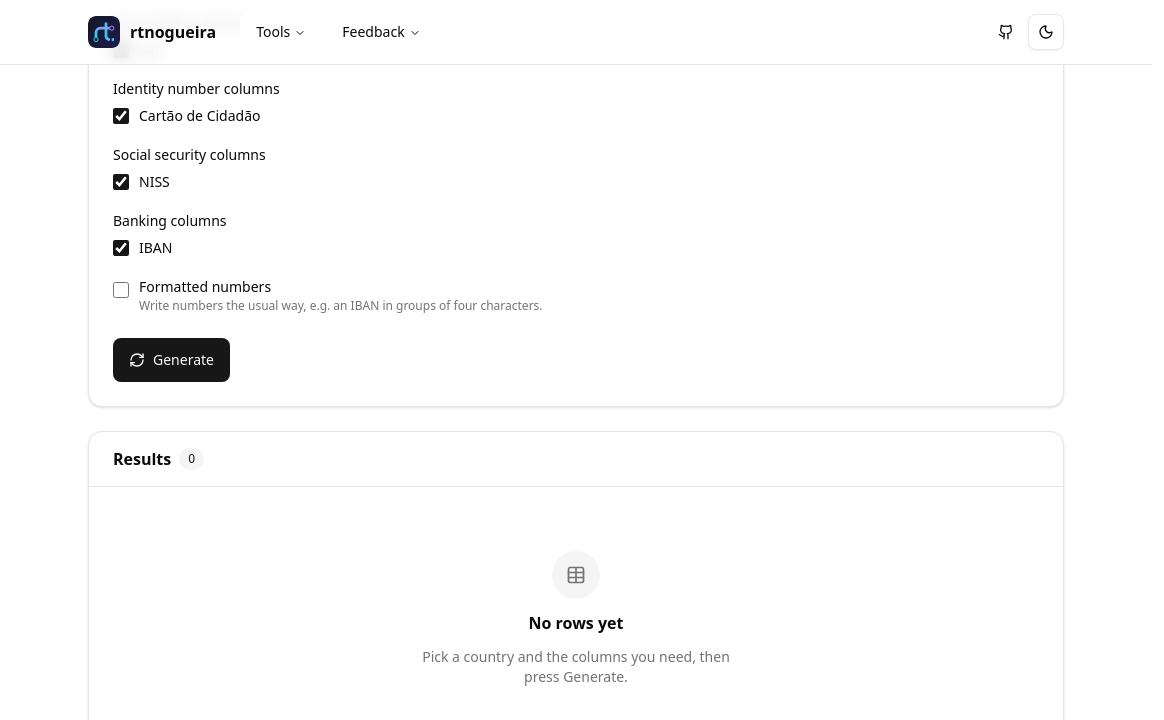
test data generator page › generates one person per row with their numbers
(page scrolled)
Click the button "Generate" at [172, 360], box 113,338 -> 230,382
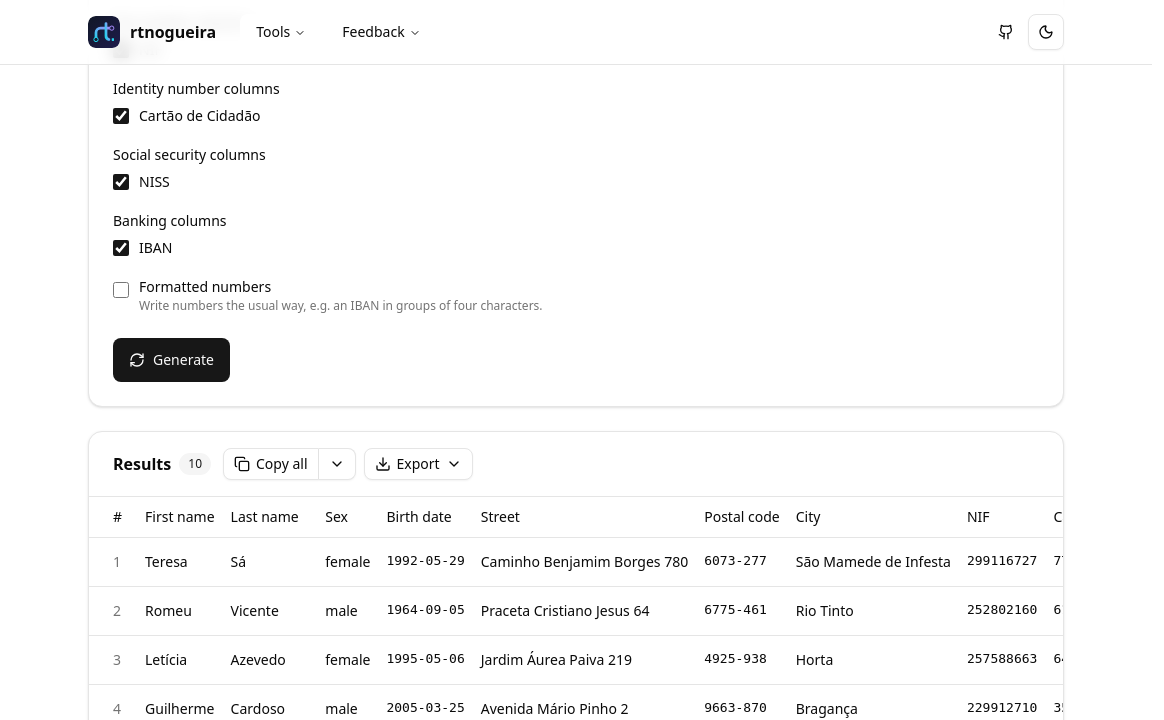
Result: the number of rows is 11
